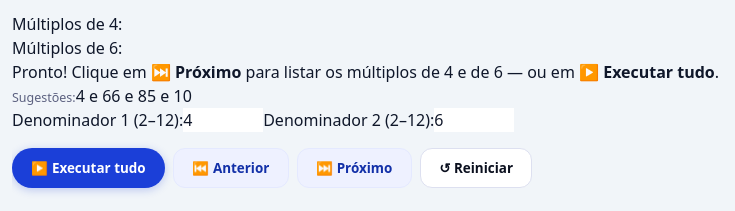
MmcSimulator — descobrindo o MMC › ▶ Executar tudo encadeia os passos sozinho até o MMC aparecer
Click the button "▶ Executar tudo": point(88, 168) x1=12 y1=148 x2=165 y2=188
Wait 2800 ms
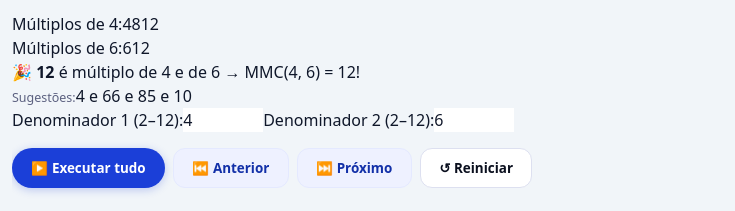
Expected: the message with class "sim-status" shows "MMC(4, 6) = 12", x1=12 y1=61 x2=360 y2=83
